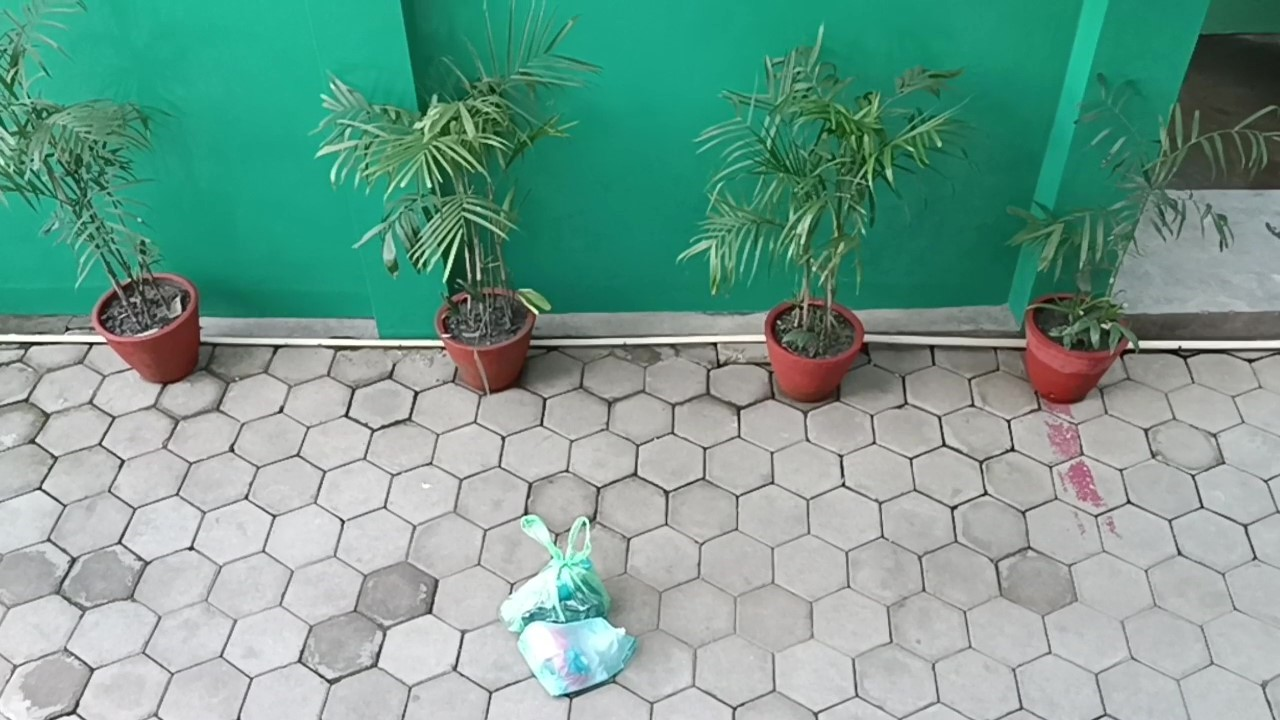thrownwaste: (485, 508, 625, 638), (513, 618, 647, 710)
